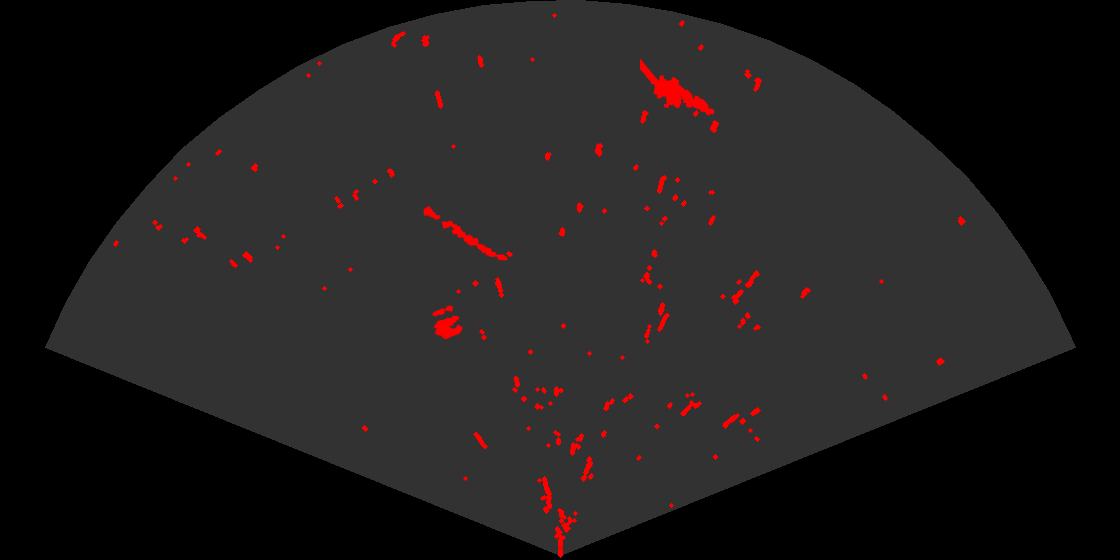ball: (431, 304, 464, 341)
chain: (422, 204, 509, 262)
frogman: (640, 59, 716, 117)
